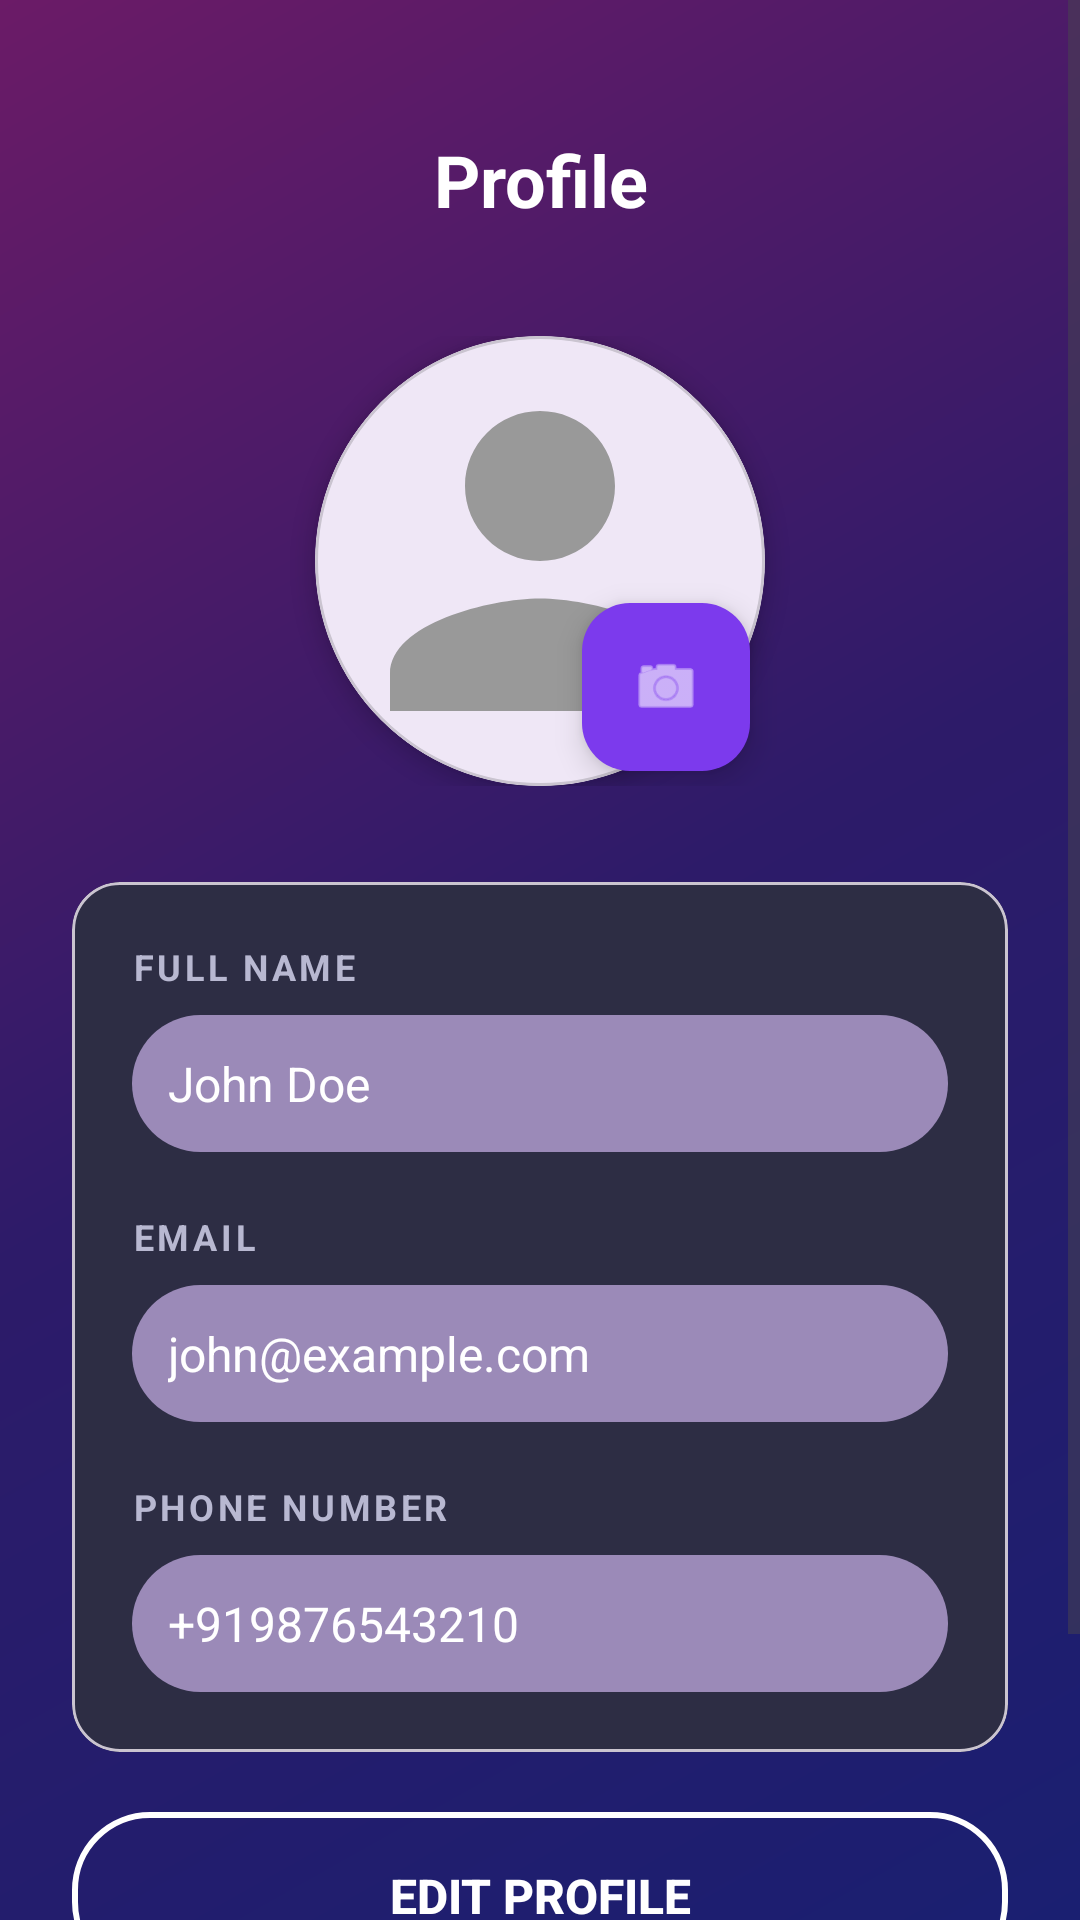

Named icons in this screenshot (1080×1920) and their centers, (x,y):
Change Photo: (666,687)
